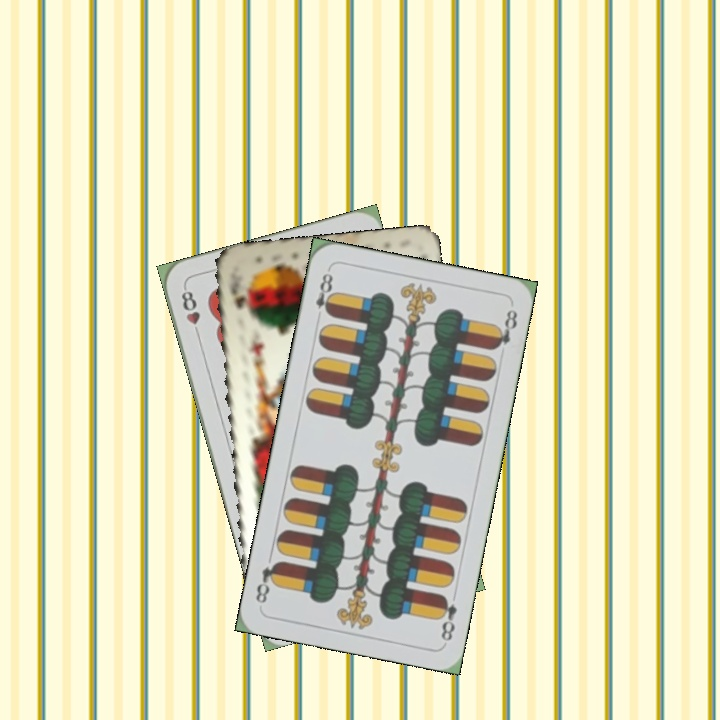E8: (311, 266, 337, 324), (434, 591, 460, 644)
H8: (177, 284, 204, 342)
SK: (226, 277, 251, 318)
